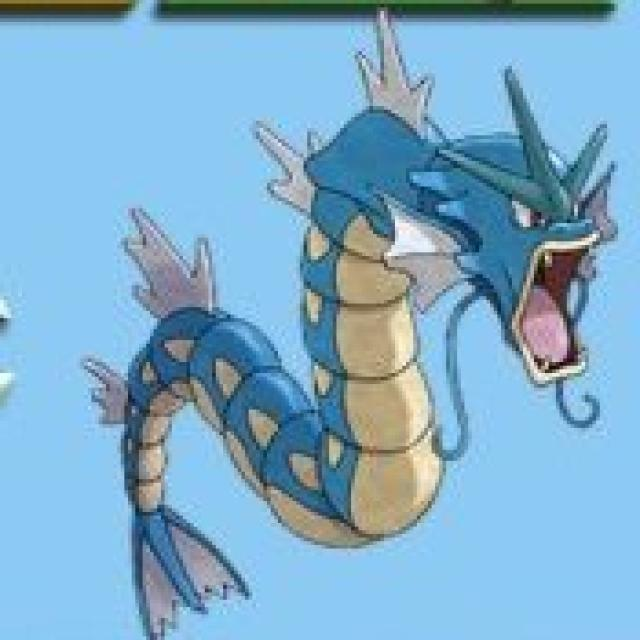Gyarados: (118, 69, 620, 545)
